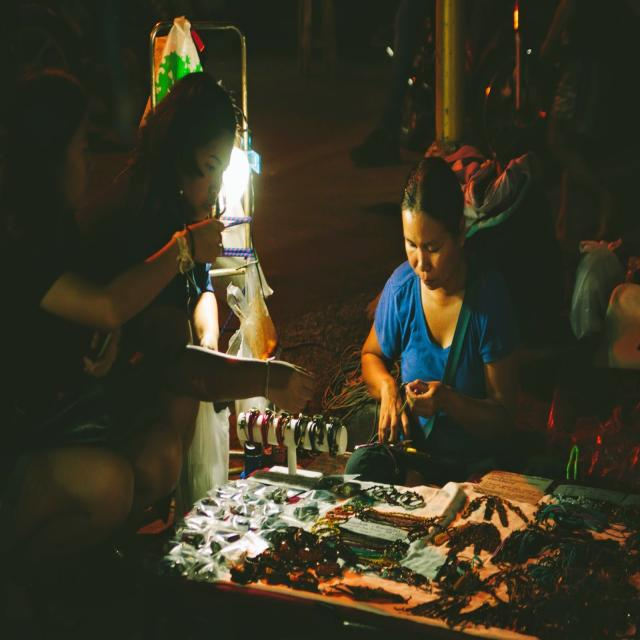body: (262, 7, 635, 352), (0, 66, 226, 580), (103, 70, 319, 458), (344, 155, 514, 487)
